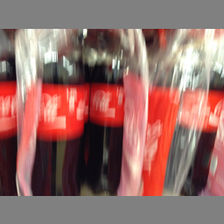soda: (18, 31, 89, 196), (83, 30, 149, 194)
